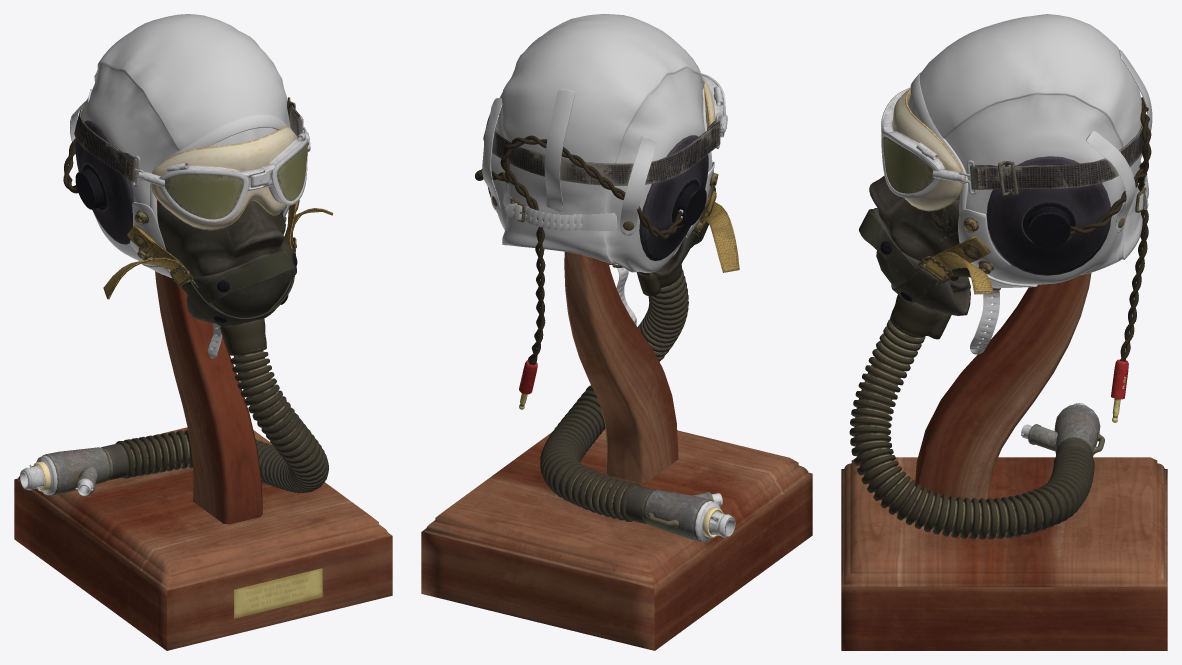
Rendered from FlightHelmet.gltf.
3 renders of one model, left to right at view 1: azimuth 30°, elevation 25°; view 2: azimuth 150°, elevation 25°; view 3: azimuth 270°, elevation 25°, orthographic. The views are drawn at different scales.
Visible parts, largest first — view 1: RubberWood_low, LeatherParts_low, MetalParts_low, Hose_low, GlassPlastic_low, Lenses_low; view 2: RubberWood_low, LeatherParts_low, Hose_low, MetalParts_low, GlassPlastic_low; view 3: RubberWood_low, LeatherParts_low, Hose_low, GlassPlastic_low, MetalParts_low, Lenses_low.
Part boxes in pixels (x1=…): RubberWood_low: x1=14, y1=100, x2=392, y2=650; LeatherParts_low: x1=70, y1=14, x2=290, y2=358; MetalParts_low: x1=20, y1=97, x2=322, y2=618; Hose_low: x1=115, y1=346, x2=328, y2=493; GlassPlastic_low: x1=75, y1=120, x2=296, y2=244; Lenses_low: x1=165, y1=143, x2=307, y2=219; RubberWood_low: x1=421, y1=114, x2=812, y2=650; LeatherParts_low: x1=482, y1=14, x2=714, y2=325; Hose_low: x1=540, y1=270, x2=688, y2=521; MetalParts_low: x1=492, y1=73, x2=735, y2=541; GlassPlastic_low: x1=487, y1=76, x2=715, y2=261; RubberWood_low: x1=841, y1=97, x2=1167, y2=650; LeatherParts_low: x1=908, y1=14, x2=1152, y2=354; Hose_low: x1=849, y1=317, x2=1094, y2=539; GlassPlastic_low: x1=892, y1=88, x2=1110, y2=275; MetalParts_low: x1=880, y1=87, x2=1146, y2=457; Lenses_low: x1=883, y1=136, x2=933, y2=193.
Size of the model in its own units: 0.3666 by 0.716 by 0.3716.
